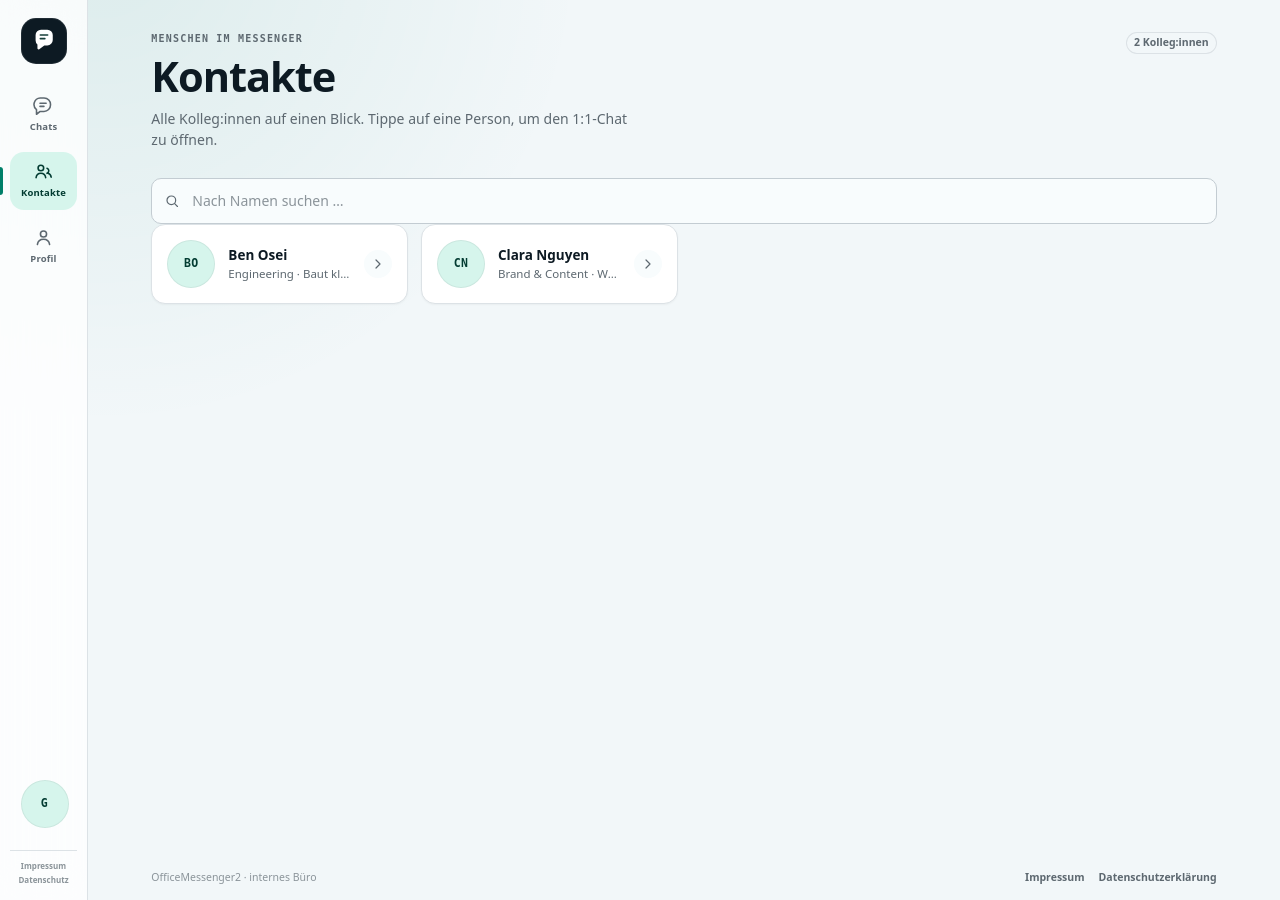
Test: ContactsPage › filters the directory through a new request when the user types
Expected: the text "Clara Nguyen" is shown, [498,246,589,264]
Type "ben" into the search field named "Kontakte nach Namen durchsuchen" at x=684, y=201, box [151,178,1217,224]
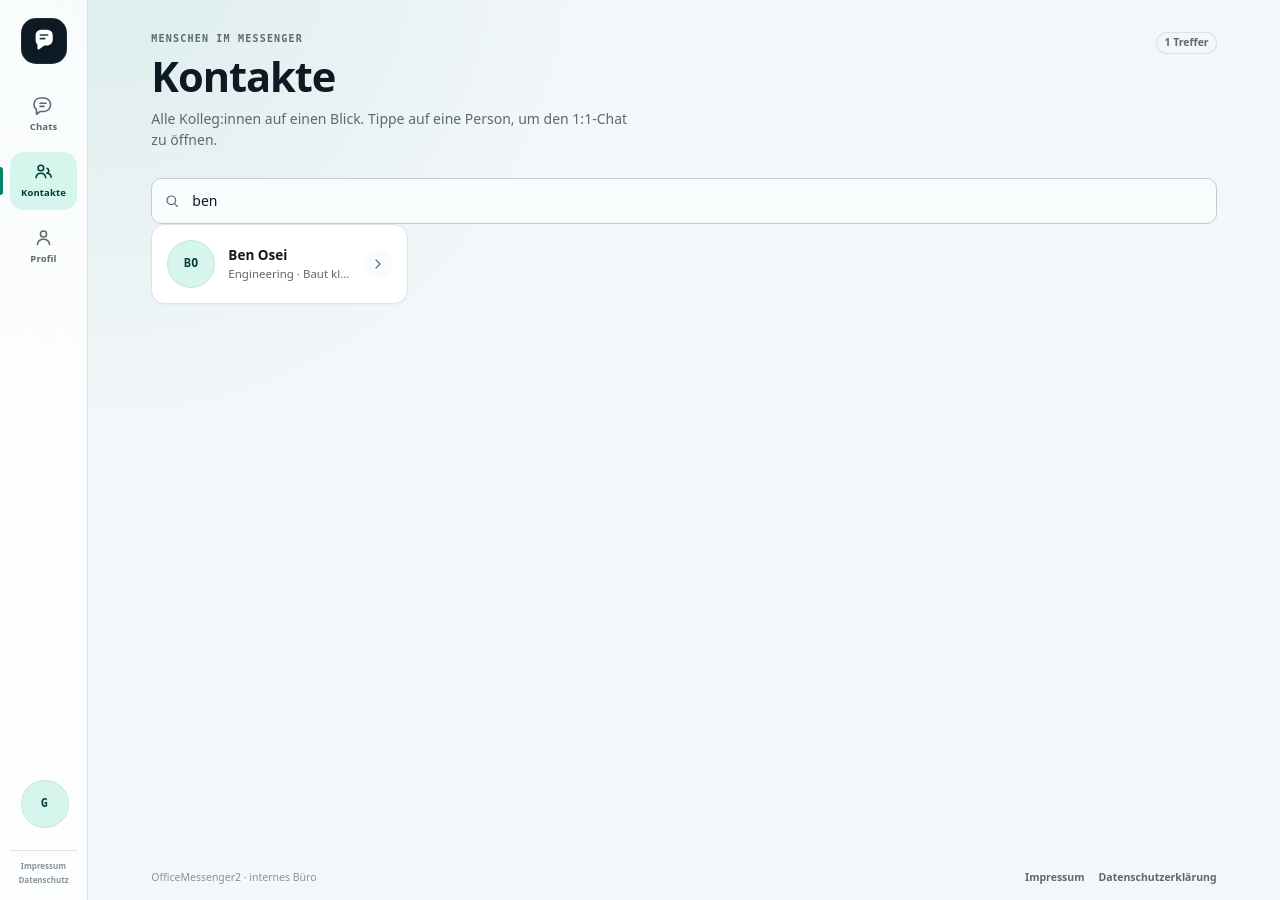
Expected: the text "Ben Osei" is shown, [228,246,287,264]
Now the button "Clara Nguyen" is gone
Now the text "1 Treffer" is shown, box [1156,32,1217,54]
